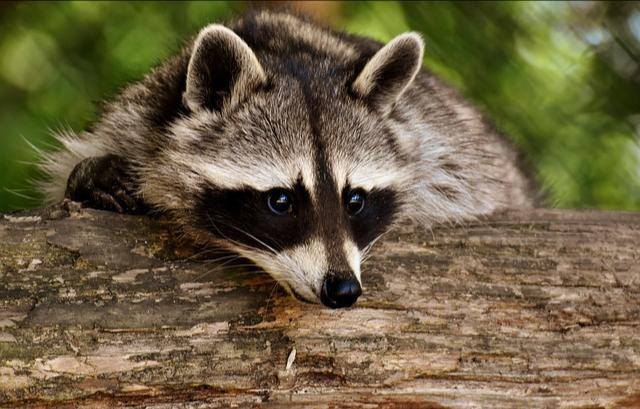Non_Gorille: (51, 0, 502, 326)
